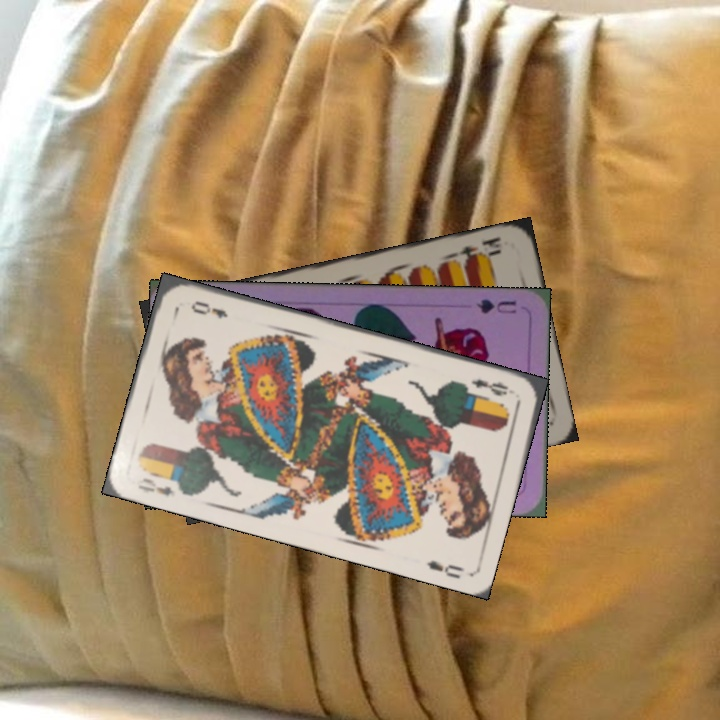E10: (451, 233, 504, 266)
EO: (467, 374, 518, 399), (134, 473, 177, 500)
GU: (472, 295, 519, 317)
